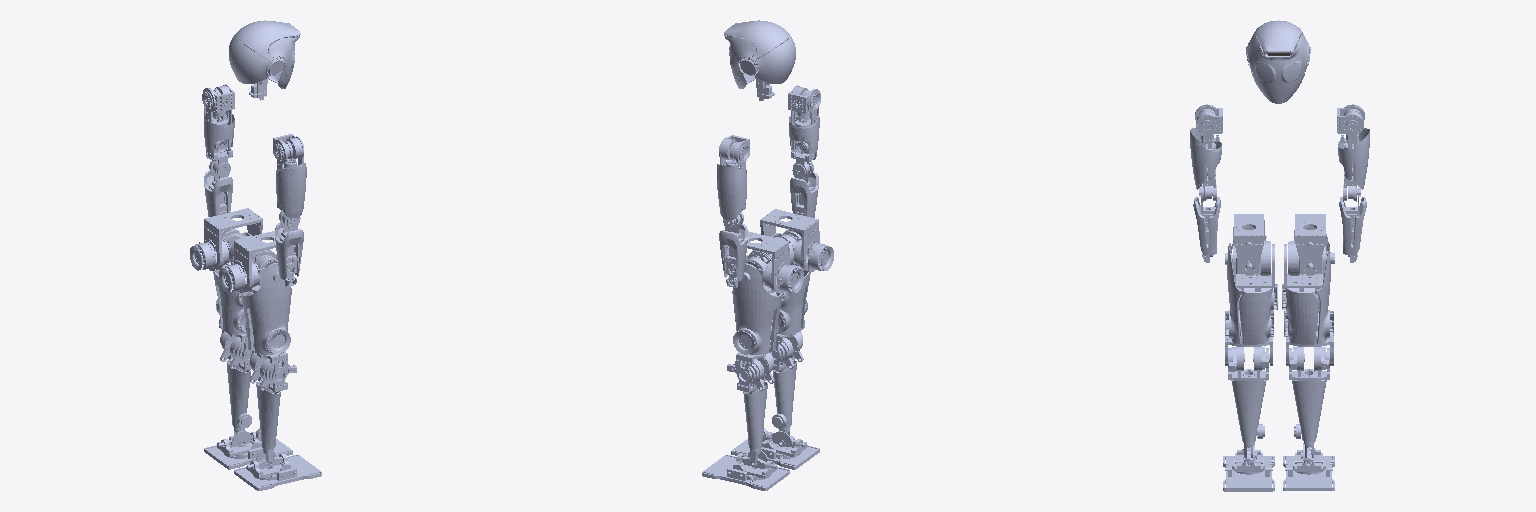
--- What the picture shows (computed from the rendered views, not written in the file) ---
Views: 3 orthographic renders of the robot side by side, from view 1: azimuth 30°, elevation 25°; view 2: azimuth 150°, elevation 25°; view 3: azimuth 270°, elevation 25°.
Robot: surenaV — 33 links, 32 joints (29 revolute, 3 fixed); root link base_link; default pose: all joints at 0.
Visible links, largest first — view 1: head_roll, r_hip_pitch, r_knee, l_hip_yaw, l_knee, r_hip_yaw, r_ankle_roll, r_elbow_pitch, l_hip_pitch, l_ankle_roll, r_forearm_link, l_elbow_pitch (+3 smaller); view 2: head_roll, l_hip_pitch, l_knee, r_hip_yaw, r_knee, l_hip_yaw, l_ankle_roll, r_hip_pitch, l_elbow_pitch, r_ankle_roll, l_forearm_link, r_elbow_pitch (+3 smaller); view 3: r_hip_pitch, l_hip_pitch, head_roll, r_knee, l_knee, r_ankle_roll, l_ankle_roll, l_hip_yaw, r_hip_yaw, r_elbow_pitch, l_elbow_pitch, l_forearm_link (+4 smaller).
Link boxes in pixels (box(x1,y1,x2,y2)): head_roll: box(229, 20, 300, 88); r_hip_pitch: box(241, 263, 291, 382); r_knee: box(250, 353, 296, 465); l_hip_yaw: box(190, 208, 262, 270); l_knee: box(220, 332, 251, 442); r_hip_yaw: box(219, 231, 275, 292); r_ankle_roll: box(234, 453, 321, 490); r_elbow_pitch: box(276, 163, 306, 227); l_hip_pitch: box(213, 229, 249, 360); l_ankle_roll: box(204, 432, 292, 469); r_forearm_link: box(275, 222, 303, 282); l_elbow_pitch: box(204, 106, 234, 175); head_roll: box(724, 20, 795, 88); l_hip_pitch: box(732, 263, 782, 382); l_knee: box(727, 353, 774, 465); r_hip_yaw: box(760, 209, 833, 271); r_knee: box(772, 332, 803, 442); l_hip_yaw: box(747, 231, 803, 293); l_ankle_roll: box(702, 453, 789, 490); r_hip_pitch: box(774, 229, 810, 361); l_elbow_pitch: box(717, 164, 746, 228); r_ankle_roll: box(731, 432, 819, 469); l_forearm_link: box(719, 223, 747, 283); r_elbow_pitch: box(789, 107, 819, 177); r_hip_pitch: box(1225, 243, 1277, 365); l_hip_pitch: box(1282, 243, 1333, 365); head_roll: box(1246, 20, 1310, 103); r_knee: box(1228, 346, 1269, 457); l_knee: box(1289, 346, 1329, 457); r_ankle_roll: box(1223, 449, 1274, 491); l_ankle_roll: box(1283, 447, 1334, 490); l_hip_yaw: box(1294, 214, 1328, 274); r_hip_yaw: box(1232, 214, 1266, 274); r_elbow_pitch: box(1190, 128, 1221, 201); l_elbow_pitch: box(1338, 128, 1369, 201); l_forearm_link: box(1339, 197, 1366, 256).
Size in the robot's own frame: 0.3285 by 0.5891 by 1.63 metres.
Meshes: 32 distinct files referenced, 29 mesh visuals loaded (29 binary STL); not drawn: 3 (reference not matched to a file when rendering).

URDF robot description (surenaV):
<?xml version="1.0" encoding="utf-8"?>
<!-- 
  This URDF was automatically created by SolidWorks to URDF Exporter! Originally created by Stephen Brawner ([email redacted]) 
  Commit Version: 1.6.0-4-g7f85cfe  Build Version: 1.6.7995.38578
  For more information, please see http://wiki.ros.org/sw_urdf_exporter
  
  This file has been manually refactored for clarity and organization.
-->
<robot name="surenaV">

  <!-- ===================================================================================== -->
  <!-- |                                 GAZEBO PLUGINS                                    | -->
  <!-- ===================================================================================== -->
  <!-- Gazebo ROS Control Plugin -->
  <gazebo>
    <plugin name="gazebo_ros_control" filename="libgazebo_ros_control.so">
      <robotNamespace>/surenaV</robotNamespace>
      <robotSimType>gazebo_ros_control/DefaultRobotHWSim</robotSimType>
    </plugin>
  </gazebo>


  <!-- ===================================================================================== -->
  <!-- |                                  LINKS & JOINTS                                   | -->
  <!-- ===================================================================================== -->

  <!-- BASE LINK -->
  <link name="base_link">
    <inertial>
      <origin xyz="0.05495 -0.00046591 1.1042" rpy="0 0 0" />
      <mass value="13.59" />
      <inertia ixx="0.47" ixy="-0.19" ixz="0.11" iyy="0.84" iyz="-0.04" izz="0.66" />
    </inertial>
    <visual>
      <origin xyz="0 0 0" rpy="0 0 0" />
      <geometry>
        <mesh filename="package://surenaV_description/meshes/base_link.STL" />
      </geometry>
      <material name="">
        <color rgba="0.79216 0.81961 0.93333 1" />
      </material>
    </visual>
    <collision>
      <origin xyz="0 0 0" rpy="0 0 0" />
      <geometry>
        <mesh filename="package://surenaV_description/meshes/base_link.STL" />
      </geometry>
    </collision>
  </link>

  <!-- HEAD -->
  <link name="head_yaw">
    <inertial>
      <origin xyz="-0.0036927 0.00094602 0.055932" rpy="0 0 0" />
      <mass value="1.65" />
      <inertia ixx="0.12" ixy="-0.07" ixz="-0.05" iyy="0.26" iyz="0.02" izz="0.21" />
    </inertial>
    <visual>
      <origin xyz="0 0 0" rpy="0 0 0" />
      <geometry>
        <mesh filename="package://surenaV_description/meshes/head_yaw.STL" />
      </geometry>
      <material name="">
        <color rgba="0.79216 0.81961 0.93333 1" />
      </material>
    </visual>
    <collision>
      <origin xyz="0 0 0" rpy="0 0 0" />
      <geometry>
        <mesh filename="package://surenaV_description/meshes/head_yaw.STL" />
      </geometry>
    </collision>
  </link>
  <joint name="head_yaw_joint" type="revolute">
    <origin xyz="0.0725 0 1.3497" rpy="0 0 0" />
    <parent link="base_link" />
    <child link="head_yaw" />
    <axis xyz="0 0 1" />
    <limit lower="-1.57" upper="1.57" effort="1000" velocity="0.5" />
    <dynamics damping="0.7" friction="0.3" />
  </joint>

  <link name="head_pitch">
    <inertial>
      <origin xyz="-0.00066333 -0.0291 0.067023" rpy="0 0 0" />
      <mass value="1.68" />
      <inertia ixx="0.13" ixy="-0.07" ixz="-0.06" iyy="0.27" iyz="0.03" izz="0.22" />
    </inertial>
    <visual>
      <origin xyz="0 0 0" rpy="0 0 0" />
      <geometry>
        <mesh filename="package://surenaV_description/meshes/head_pitch.STL" />
      </geometry>
      <material name="">
        <color rgba="0.79216 0.81961 0.93333 1" />
      </material>
    </visual>
    <collision>
      <origin xyz="0 0 0" rpy="0 0 0" />
      <geometry>
        <mesh filename="package://surenaV_description/meshes/head_pitch.STL" />
      </geometry>
    </collision>
  </link>
  <joint name="head_pitch_joint" type="revolute">
    <origin xyz="0 0.0271 0.07175" rpy="0 0 0" />
    <parent link="head_yaw" />
    <child link="head_pitch" />
    <axis xyz="0 1 0" />
    <limit lower="-1.57" upper="1.57" effort="1000" velocity="0.5" />
    <dynamics damping="0.7" friction="0.3" />
  </joint>

  <link name="head_roll">
    <inertial>
      <origin xyz="-0.044066 -0.0015813 0.011272" rpy="0 0 0" />
      <mass value="1.96" />
      <inertia ixx="0.15" ixy="-0.09" ixz="-0.09" iyy="0.34" iyz="0.04" izz="0.28" />
    </inertial>
    <visual>
      <origin xyz="0 0 0" rpy="0 0 0" />
      <geometry>
        <mesh filename="package://surenaV_description/meshes/head_roll.STL" />
      </geometry>
      <material name="">
        <color rgba="0.79216 0.81961 0.93333 1" />
      </material>
    </visual>
    <collision>
      <origin xyz="0 0 0" rpy="0 0 0" />
      <geometry>
        <mesh filename="package://surenaV_description/meshes/head_roll.STL" />
      </geometry>
    </collision>
  </link>
  <joint name="head_roll_joint" type="revolute">
    <origin xyz="0.0296 -0.0291 0.0825" rpy="0 0 0" />
    <parent link="head_pitch" />
    <child link="head_roll" />
    <axis xyz="1 0 0" />
    <limit lower="-1.57" upper="1.57" effort="1000" velocity="0.5" />
    <dynamics damping="0.7" friction="0.3" />
  </joint>

  <!-- RIGHT LEG -->
  <link name="r_hip_yaw">
    <inertial>
      <origin xyz="-0.069849 0.00016756 -0.078178" rpy="0 0 0" />
      <mass value="3.17" />
      <inertia ixx="0.01" ixy="0.00" ixz="0.00" iyy="0.02" iyz="0.00" izz="0.02" />
    </inertial>
    <visual>
      <origin xyz="0 0 0" rpy="0 0 0" />
      <geometry>
        <mesh filename="package://surenaV_description/meshes/r_hip_yaw.STL" />
      </geometry>
      <material name="">
        <color rgba="0.79216 0.81961 0.93333 1" />
      </material>
    </visual>
    <collision>
      <origin xyz="0 0 0" rpy="0 0 0" />
      <geometry>
        <mesh filename="package://surenaV_description/meshes/r_hip_yaw.STL" />
      </geometry>
    </collision>
  </link>
  <joint name="r_hip_yaw_joint" type="revolute">
    <origin xyz="0.043012 -0.1 0.87631" rpy="0 0 0" />
    <parent link="base_link" />
    <child link="r_hip_yaw" />
    <axis xyz="0 0 1" />
    <limit lower="-1.57" upper="1.57" effort="1000" velocity="0.5" />
    <dynamics damping="0.7" friction="0.3" />
  </joint>

  <link name="r_hip_roll">
    <inertial>
      <origin xyz="0.0035233 0.012172 -0.00020667" rpy="0 0 0" />
      <mass value="2.44" />
      <inertia ixx="0.01" ixy="0.00" ixz="0.00" iyy="0.00" iyz="0.00" izz="0.01" />
    </inertial>
    <visual>
      <origin xyz="0 0 0" rpy="0 0 0" />
      <geometry>
        <mesh filename="package://surenaV_description/meshes/r_hip_roll.STL" />
      </geometry>
      <material name="">
        <color rgba="0.79216 0.81961 0.93333 1" />
      </material>
    </visual>
    <collision>
      <origin xyz="0 0 0" rpy="0 0 0" />
      <geometry>
        <mesh filename="package://surenaV_description/meshes/r_hip_roll.STL" />
      </geometry>
    </collision>
  </link>
  <joint name="r_hip_roll_joint" type="revolute">
    <origin xyz="0 0 -0.1113" rpy="0 0 0" />
    <parent link="r_hip_yaw" />
    <child link="r_hip_roll" />
    <axis xyz="1 0 0" />
    <limit lower="-1.57" upper="1.57" effort="1000" velocity="0.5" />
    <dynamics damping="0.7" friction="0.3" />
  </joint>

  <link name="r_hip_pitch">
    <inertial>
      <origin xyz="0.0025608 0.012621 -0.178" rpy="0 0 0" />
      <mass value="5.27" />
      <inertia ixx="0.05" ixy="0.00" ixz="0.00" iyy="0.04" iyz="0.00" izz="0.02" />
    </inertial>
    <visual>
      <origin xyz="0 0 0" rpy="0 0 0" />
      <geometry>
        <mesh filename="package://surenaV_description/meshes/r_hip_pitch.STL" />
      </geometry>
      <material name="">
        <color rgba="0.79216 0.81961 0.93333 1" />
      </material>
    </visual>
    <collision>
      <origin xyz="0 0 0" rpy="0 0 0" />
      <geometry>
        <mesh filename="package://surenaV_description/meshes/r_hip_pitch.STL" />
      </geometry>
    </collision>
  </link>
  <joint name="r_hip_pitch_joint" type="revolute">
    <origin xyz="0 0 0" rpy="0 0 0" />
    <parent link="r_hip_roll" />
    <child link="r_hip_pitch" />
    <axis xyz="0 1 0" />
    <limit lower="-1.57" upper="1.57" effort="1000" velocity="0.5" />
    <dynamics damping="0.7" friction="0.3" />
  </joint>

  <link name="r_knee">
    <inertial>
      <origin xyz="0.0066463 0.0011462 -0.085758" rpy="0 0 0" />
      <mass value="2.19" />
      <inertia ixx="0.03" ixy="0.00" ixz="0.00" iyy="0.03" iyz="0.00" izz="0.01" />
    </inertial>
    <visual>
      <origin xyz="0 0 0" rpy="0 0 0" />
      <geometry>
        <mesh filename="package://surenaV_description/meshes/r_knee.STL" />
      </geometry>
      <material name="">
        <color rgba="0.79216 0.81961 0.93333 1" />
      </material>
    </visual>
    <collision>
      <origin xyz="0 0 0" rpy="0 0 0" />
      <geometry>
        <mesh filename="package://surenaV_description/meshes/r_knee.STL" />
      </geometry>
    </collision>
  </link>
  <joint name="r_knee_joint" type="revolute">
    <origin xyz="0 0 -0.36006" rpy="0 0 0" />
    <parent link="r_hip_pitch" />
    <child link="r_knee" />
    <axis xyz="0 1 0" />
    <limit lower="-1.57" upper="1.57" effort="1000" velocity="0.5" />
    <dynamics damping="0.7" friction="0.3" />
  </joint>

  <link name="r_ankle_pitch">
    <inertial>
      <origin xyz="-1.3629E-05 0.0034024 0.0015737" rpy="0 0 0" />
      <mass value="0.15" />
      <inertia ixx="0" ixy="1.3944E-09" ixz="0" iyy="0" iyz="0" izz="0" />
    </inertial>
    <visual>
      <origin xyz="0 0 0" rpy="0 0 0" />
      <geometry>
        <mesh filename="package://surenaV_description/meshes/r_ankle_pitch.STL" />
      </geometry>
      <material name="">
        <color rgba="0.79216 0.81961 0.93333 1" />
      </material>
    </visual>
    <collision>
      <origin xyz="0 0 0" rpy="0 0 0" />
      <geometry>
        <mesh filename="package://surenaV_description/meshes/r_ankle_pitch.STL" />
      </geometry>
    </collision>
  </link>
  <joint name="r_ankle_pitch_joint" type="revolute">
    <origin xyz="0 0 -0.35001" rpy="0 0 0" />
    <parent link="r_knee" />
    <child link="r_ankle_pitch" />
    <axis xyz="0 1 0" />
    <limit lower="-1.57" upper="1.57" effort="1000" velocity="0.5" />
    <dynamics damping="0.7" friction="0.3" />
  </joint>

  <link name="r_ankle_roll">
    <inertial>
      <origin xyz="0.032019 -0.0010731 -0.039192" rpy="0 0 0" />
      <mass value="1.93" />
      <inertia ixx="0.00" ixy="0.00" ixz="0.00" iyy="0.01" iyz="0.00" izz="0.01" />
    </inertial>
    <visual>
      <origin xyz="0 0 0" rpy="0 0 0" />
      <geometry>
        <mesh filename="package://surenaV_description/meshes/r_ankle_roll.STL" />
      </geometry>
      <material name="">
        <color rgba="0.79216 0.81961 0.93333 1" />
      </material>
    </visual>
    <collision>
      <origin xyz="0 0 0" rpy="0 0 0" />
      <geometry>
        <mesh filename="package://surenaV_description/meshes/r_ankle_roll.STL" />
      </geometry>
      <surface>
        <friction>
          <ode>
            <mu>100</mu>
            <mu2>100</mu2>
          </ode>
        </friction>
      </surface>
    </collision>
  </link>
  <joint name="r_ankle_roll_joint" type="revolute">
    <origin xyz="0 0 0" rpy="0 0 0" />
    <parent link="r_ankle_pitch" />
    <child link="r_ankle_roll" />
    <axis xyz="1 0 0" />
    <limit lower="-1.57" upper="1.57" effort="1000" velocity="0.5" />
    <dynamics damping="0.7" friction="0.3" />
  </joint>

  <!-- LEFT LEG -->
  <link name="l_hip_yaw">
    <inertial>
      <origin xyz="-0.069213 0.00011237 -0.068241" rpy="0 0 0" />
      <mass value="3.17" />
      <inertia ixx="0.01" ixy="0.00" ixz="0.00" iyy="0.02" iyz="0.00" izz="0.02" />
    </inertial>
    <visual>
      <origin xyz="0 0 0" rpy="0 0 0" />
      <geometry>
        <mesh filename="package://surenaV_description/meshes/l_hip_yaw.STL" />
      </geometry>
      <material name="">
        <color rgba="0.79216 0.81961 0.93333 1" />
      </material>
    </visual>
    <collision>
      <origin xyz="0 0 0" rpy="0 0 0" />
      <geometry>
        <mesh filename="package://surenaV_description/meshes/l_hip_yaw.STL" />
      </geometry>
    </collision>
  </link>
  <joint name="l_hip_yaw_joint" type="revolute">
    <origin xyz="0.043012 0.1 0.86631" rpy="0 0 0" />
    <parent link="base_link" />
    <child link="l_hip_yaw" />
    <axis xyz="0 0 1" />
    <limit lower="-1.57" upper="1.57" effort="1000" velocity="0.5" />
    <dynamics damping="0.7" friction="0.3" />
  </joint>

  <link name="l_hip_roll">
    <inertial>
      <origin xyz="0.0033793 -0.012172 0.00021004" rpy="0 0 0" />
      <mass value="2.44" />
      <inertia ixx="0.01" ixy="0.00" ixz="0.00" iyy="0.00" iyz="0.00" izz="0.01" />
    </inertial>
    <visual>
      <origin xyz="0 0 0" rpy="0 0 0" />
      <geometry>
        <mesh filename="package://surenaV_description/meshes/l_hip_roll.STL" />
      </geometry>
      <material name="">
        <color rgba="0.79216 0.81961 0.93333 1" />
      </material>
    </visual>
    <collision>
      <origin xyz="0 0 0" rpy="0 0 0" />
      <geometry>
        <mesh filename="package://surenaV_description/meshes/l_hip_roll.STL" />
      </geometry>
    </collision>
  </link>
  <joint name="l_hip_roll_joint" type="revolute">
    <origin xyz="0 0 -0.1013" rpy="0 0 0" />
    <parent link="l_hip_yaw" />
    <child link="l_hip_roll" />
    <axis xyz="1 0 0" />
    <limit lower="-1.57" upper="1.57" effort="1000" velocity="0.5" />
    <dynamics damping="0.7" friction="0.3" />
  </joint>

  <link name="l_hip_pitch">
    <inertial>
      <origin xyz="0.0024199 -0.02 -0.17825" rpy="0 0 0" />
      <mass value="5.61" />
      <inertia ixx="0.05" ixy="0.00" ixz="0.00" iyy="0.04" iyz="0.00" izz="0.02" />
    </inertial>
    <visual>
      <origin xyz="0 0 0" rpy="0 0 0" />
      <geometry>
        <mesh filename="package://surenaV_description/meshes/l_hip_pitch.STL" />
      </geometry>
      <material name="">
        <color rgba="0.79216 0.81961 0.93333 1" />
      </material>
    </visual>
    <collision>
      <origin xyz="0 0 0" rpy="0 0 0" />
      <geometry>
        <mesh filename="package://surenaV_description/meshes/l_hip_pitch.STL" />
      </geometry>
    </collision>
  </link>
  <joint name="l_hip_pitch_joint" type="revolute">
    <origin xyz="0 0 0" rpy="0 0 0" />
    <parent link="l_hip_roll" />
    <child link="l_hip_pitch" />
    <axis xyz="0 1 0" />
    <limit lower="-1.57" upper="1.57" effort="1000" velocity="0.5" />
    <dynamics damping="0.7" friction="0.3" />
  </joint>

  <link name="l_knee">
    <inertial>
      <origin xyz="0.01 -0.01 -0.09" rpy="0 0 0" />
      <mass value="2.19" />
      <inertia ixx="0.03" ixy="0.00" ixz="0.00" iyy="0.03" iyz="0.00" izz="0.01" />
    </inertial>
    <visual>
      <origin xyz="0 0 0" rpy="0 0 0" />
      <geometry>
        <mesh filename="package://surenaV_description/meshes/l_knee.STL" />
      </geometry>
      <material name="">
        <color rgba="0.79216 0.81961 0.93333 1" />
      </material>
    </visual>
    <collision>
      <origin xyz="0 0 0" rpy="0 0 0" />
      <geometry>
        <mesh filename="package://surenaV_description/meshes/l_knee.STL" />
      </geometry>
    </collision>
  </link>
  <joint name="l_knee_joint" type="revolute">
    <origin xyz="0 0 -0.35988" rpy="0 0 0" />
    <parent link="l_hip_pitch" />
    <child link="l_knee" />
    <axis xyz="0 1 0" />
    <limit lower="-1.57" upper="1.57" effort="1000" velocity="0.5" />
    <dynamics damping="0.7" friction="0.3" />
  </joint>

  <link name="l_ankle_pitch">
    <inertial>
      <origin xyz="-1.3629E-05 -0.01 0.0015737" rpy="0 0 0" />
      <mass value="0.19" />
      <inertia ixx="0" ixy="0" ixz="0" iyy="0" iyz="0" izz="0" />
    </inertial>
    <visual>
      <origin xyz="0 0 0" rpy="0 0 0" />
      <geometry>
        <mesh filename="package://surenaV_description/meshes/l_ankle_pitch.STL" />
      </geometry>
      <material name="">
        <color rgba="0.79216 0.81961 0.93333 1" />
      </material>
    </visual>
    <collision>
      <origin xyz="0 0 0" rpy="0 0 0" />
      <geometry>
        <mesh filename="package://surenaV_description/meshes/l_ankle_pitch.STL" />
      </geometry>
    </collision>
  </link>
  <joint name="l_ankle_pitch_joint" type="revolute">
    <origin xyz="0 0 -0.34999" rpy="0 0 0" />
    <parent link="l_knee" />
    <child link="l_ankle_pitch" />
    <axis xyz="0 1 0" />
    <limit lower="-1.57" upper="1.57" effort="1000" velocity="0.5" />
    <dynamics damping="0.7" friction="0.3" />
  </joint>

  <link name="l_ankle_roll">
    <inertial>
      <origin xyz="0.032019 -0.0036731 -0.039192" rpy="0 0 0" />
      <mass value="1.85" />
      <inertia ixx="0" ixy="0" ixz="0" iyy="0.1" iyz="0" izz="0.01" />
    </inertial>
    <visual>
      <origin xyz="0 0 0" rpy="0 0 0" />
      <geometry>
        <mesh filename="package://surenaV_description/meshes/l_ankle_roll.STL" />
      </geometry>
      <material name="">
        <color rgba="0.79216 0.81961 0.93333 1" />
      </material>
    </visual>
    <collision>
      <origin xyz="0 0 0" rpy="0 0 0" />
      <geometry>
        <mesh filename="package://surenaV_description/meshes/l_ankle_roll.STL" />
      </geometry>
      <surface>
        <friction>
          <ode>
            <mu>100</mu>
            <mu2>100</mu2>
          </ode>
        </friction>
      </surface>
    </collision>
  </link>
  <joint name="l_ankle_roll_joint" type="revolute">
    <origin xyz="0 0 0" rpy="0 0 0" />
    <parent link="l_ankle_pitch" />
    <child link="l_ankle_roll" />
    <axis xyz="1 0 0" />
    <limit lower="-1.57" upper="1.57" effort="1000" velocity="0.5" />
    <dynamics damping="0.7" friction="0.3" />
  </joint>

  <!-- RIGHT ARM -->
  <link name="r_arm_pitch">
    <inertial>
      <origin xyz="-0.01 -0.04 0" rpy="0 0 0" />
      <mass value="1.99" />
      <inertia ixx="0.31" ixy="-0.04" ixz="0.03" iyy="0.08" iyz="0.02" izz="0.3" />
    </inertial>
    <visual>
      <origin xyz="0 0 0" rpy="0 0 0" />
      <geometry>
        <mesh filename="package://surenaV_description/meshes/r_arm_pitch.STL" />
      </geometry>
      <material name="">
        <color rgba="0.79216 0.81961 0.93333 1" />
      </material>
    </visual>
    <collision>
      <origin xyz="0 0 0" rpy="0 0 0" />
      <geometry>
        <mesh filename="package://surenaV_description/meshes/r_arm_pitch.STL" />
      </geometry>
    </collision>
  </link>
  <joint name="r_arm_pitch_joint" type="revolute">
    <origin xyz="0.050262 -0.18726 1.2635" rpy="0 0 0" />
    <parent link="base_link" />
    <child link="r_arm_pitch" />
    <axis xyz="0 1 0" />
    <limit lower="-1.57" upper="1.57" effort="1000" velocity="0.5" />
    <dynamics damping="0.7" friction="0.3" />
  </joint>

  <link name="r_arm_roll">
    <inertial>
      <origin xyz="-0.033422 -0.00012632 -0.083394" rpy="0 0 0" />
      <mass value="1.93" />
      <inertia ixx="0.29" ixy="-0.04" ixz="0.03" iyy="0.07" iyz="-0.02" izz="0.28" />
    </inertial>
    <visual>
      <origin xyz="0 0 0" rpy="0 0 0" />
      <geometry>
        <mesh filename="package://surenaV_description/meshes/r_arm_roll.STL" />
      </geometry>
      <material name="">
        <color rgba="0.79216 0.81961 0.93333 1" />
      </material>
    </visual>
    <collision>
      <origin xyz="0 0 0" rpy="0 0 0" />
      <geometry>
        <mesh filename="package://surenaV_description/meshes/r_arm_roll.STL" />
      </geometry>
    </collision>
  </link>
  <joint name="r_arm_roll_joint" type="revolute">
    <origin xyz="0.035 -0.05 0" rpy="0 0 0" />
    <parent link="r_arm_pitch" />
    <child link="r_arm_roll" />
    <axis xyz="1 0 0" />
    <limit lower="-1.57" upper="1.57" effort="1000" velocity="0.5" />
    <dynamics damping="0.7" friction="0.3" />
  </joint>

  <link name="r_elbow_pitch">
    <inertial>
      <origin xyz="0 0 -0.06" rpy="0 0 0" />
      <mass value="1.91" />
      <inertia ixx="0.28" ixy="-0.04" ixz="0.03" iyy="0.06" iyz="-0.03" izz="0.28" />
    </inertial>
    <visual>
      <origin xyz="0 0 0" rpy="0 0 0" />
      <geometry>
        <mesh filename="package://surenaV_description/meshes/r_elbow_pitch.STL" />
      </geometry>
      <material name="">
        <color rgba="0.79216 0.81961 0.93333 1" />
      </material>
    </visual>
    <collision>
      <origin xyz="0 0 0" rpy="0 0 0" />
      <geometry>
        <mesh filename="package://surenaV_description/meshes/r_elbow_pitch.STL" />
      </geometry>
    </collision>
  </link>
  <joint name="r_elbow_pitch_joint" type="revolute">
    <origin xyz="-0.033004 0 -0.13334" rpy="0 0 0" />
    <parent link="r_arm_roll" />
    <child link="r_elbow_pitch" />
    <axis xyz="0 0 1" />
    <limit lower="-1.57" upper="1.57" effort="1000" velocity="0.5" />
    <dynamics damping="0.7" friction="0.3" />
  </joint>

  <link name="r_forearm_roll">
    <inertial>
      <origin xyz="0 -0.030836 -0.02" rpy="0 0 0" />
      <mass value="2.02" />
      <inertia ixx="0.31" ixy="-0.03" ixz="-0.03" iyy="0.07" iyz="0.03" izz="0.31" />
    </inertial>
    <visual>
      <origin xyz="0 0 0" rpy="0 0 0" />
      <geometry>
        <mesh filename="package://surenaV_description/meshes/r_forearm_roll.STL" />
      </geometry>
      <material name="">
        <color rgba="0.79216 0.81961 0.93333 1" />
      </material>
    </visual>
    <collision>
      <origin xyz="0 0 0" rpy="0 0 0" />
      <geometry>
        <mesh filename="package://surenaV_description/meshes/r_forearm_roll.STL" />
      </geometry>
    </collision>
  </link>
  <joint name="r_forearm_roll_joint" type="revolute">
    <origin xyz="0 0.0335 -0.12309" rpy="0 0 0" />
    <parent link="r_elbow_pitch" />
    <child link="r_forearm_roll" />
    <axis xyz="0 1 0" />
    <limit lower="-1.57" upper="1.57" effort="1000" velocity="0.5" />
    <dynamics damping="0.7" friction="0.3" />
  </joint>

  <link name="r_forearm_link">
    <inertial>
      <origin xyz="0 -0.01 -0.07" rpy="0 0 0" />
      <mass value="0.18" />
      <inertia ixx="0" ixy="0" ixz="0" iyy="0" iyz="0" izz="0" />
    </inertial>
    <visual>
      <origin xyz="0 0 0" rpy="0 0 0" />
      <geometry>
        <mesh filename="package://surenaV_description/meshes/r_forearm_link.STL" />
      </geometry>
      <material name="">
        <color rgba="0.79216 0.81961 0.93333 1" />
      </material>
    </visual>
    <collision>
      <origin xyz="0 0 0" rpy="0 0 0" />
      <geometry>
        <mesh filename="package://surenaV_description/meshes/r_forearm_link.STL" />
      </geometry>
    </collision>
  </link>
  <joint name="r_forearm_link_joint" type="revolute">
    <origin xyz="0 -0.03075 -0.07083" rpy="0 0 -1.57" />
    <parent link="r_forearm_roll" />
    <child link="r_forearm_link" />
    <axis xyz="0 0 1" />
    <limit lower="-1.57" upper="1.57" effort="1000" velocity="0.5" />
    <dynamics damping="0.7" friction="0.3" />
  </joint>

  <link name="r_hand_pitch">
    <inertial>
      <origin xyz="-0.01 3.8223E-08 -5.6648E-09" rpy="0 0 0" />
      <mass value="1.75" />
      <inertia ixx="0.09" ixy="0.03" ixz="-0.08" iyy="0.22" iyz="-0.03" izz="0.19" />
    </inertial>
    <visual>
      <origin xyz="0 0 0" rpy="0 0 0" />
      <geometry>
        <mesh filename="package://surenaV_description/meshes/r_hand_pitch.STL" />
      </geometry>
      <material name="">
        <color rgba="0.79216 0.81961 0.93333 1" />
      </material>
    </visual>
    <collision>
      <origin xyz="0 0 0" rpy="0 0 0" />
      <geometry>
        <mesh filename="package://surenaV_description/meshes/r_hand_pitch.STL" />
      </geometry>
    </collision>
  </link>
  <joint name="r_hand_pitch_joint" type="revolute">
    <origin xyz="0.01 0 -0.15132" rpy="0 0 0" />
    <parent link="r_forearm_link" />
    <child link="r_hand_pitch" />
    <axis xyz="0 -1 0" />
    <limit lower="-1.57" upper="1.57" effort="1000" velocity="0.5" />
    <dynamics damping="0.7" friction="0.3" />
  </joint>

  <link name="r_hand_roll">
    <inertial>
      <origin xyz="0.0041621 -0.017 -0.012245" rpy="0 0 0" />
      <mass value="1.75" />
      <inertia ixx="0.05" ixy="0.04" ixz="0.02" iyy="0.22" iyz="-0.01" izz="0.23" />
    </inertial>
    <visual>
      <origin xyz="0 0 0" rpy="0 0 0" />
      <geometry>
        <mesh filename="package://surenaV_description/meshes/r_hand_roll.STL" />
      </geometry>
      <material name="">
        <color rgba="0.79216 0.81961 0.93333 1" />
      </material>
    </visual>
    <collision>
      <origin xyz="0 0 0" rpy="0 0 0" />
      <geometry>
        <mesh filename="package://surenaV_description/meshes/r_hand_roll.STL" />
      </geometry>
    </collision>
  </link>
  <joint name="r_hand_roll_joint" type="revolute">
    <origin xyz="-0.01 0.017 0" rpy="0 0 0" />
    <parent link="r_hand_pitch" />
    <child link="r_hand_roll" />
    <axis xyz="1 0 0" />
    <limit lower="-1.57" upper="1.57" effort="1000" velocity="0.5" />
    <dynamics damping="0.7" friction="0.3" />
  </joint>

  <link name="r_hand_link">
    <inertial>
      <origin xyz="-0.01 0.01 -0.07" rpy="0 0 0" />
      <mass value="0.24" />
      <inertia ixx="0" ixy="0" ixz="0" iyy="0" iyz="0" izz="0" />
    </inertial>
    <visual>
      <origin xyz="0 0 0" rpy="0 0 0" />
      <geometry>
        <mesh filename="package://surenaV_description/meshes/r_hand_link.STL" />
      </geometry>
      <material name="">
        <color rgba="0.79216 0.81961 0.93333 1" />
      </material>
    </visual>
    <collision>
      <origin xyz="0 0 0" rpy="0 0 0" />
      <geometry>
        <mesh filename="package://surenaV_description/meshes/r_hand_link.STL" />
      </geometry>
    </collision>
  </link>
  <joint name="r_hand_link_joint" type="fixed">
    <origin xyz="0.049842 0.21551 0.7191" rpy="0 0 0" />
    <parent link="r_hand_roll" />
    <child link="r_hand_link" />
    <axis xyz="0 0 0" />
  </joint>

  <!-- LEFT ARM -->
  <link name="l_arm_pitch">
    <inertial>
      <origin xyz="-0.01 0.042591 -0.00039657" rpy="0 0 0" />
      <mass value="1.99" />
      <inertia ixx="0.28" ixy="-0.08" ixz="0.04" iyy="0.1" iyz="-0.02" izz="0.3" />
    </inertial>
    <visual>
      <origin xyz="0 0 0" rpy="0 0 0" />
      <geometry>
        <mesh filename="package://surenaV_description/meshes/l_arm_pitch.STL" />
      </geometry>
      <material name="">
        <color rgba="0.79216 0.81961 0.93333 1" />
      </material>
    </visual>
    <collision>
      <origin xyz="0 0 0" rpy="0 0 0" />
      <geometry>
        <mesh filename="package://surenaV_description/meshes/l_arm_pitch.STL" />
      </geometry>
    </collision>
  </link>
  <joint name="l_arm_pitch_joint" type="revolute">
    <origin xyz="0.050262 0.18852 1.2635" rpy="0 0 0" />
    <parent link="base_link" />
    <child link="l_arm_pitch" />
    <axis xyz="0 1 0" />
    <limit lower="-1.57" upper="1.57" effort="1000" velocity="0.5" />
    <dynamics damping="0.7" friction="0.3" />
  </joint>

  <link name="l_arm_roll">
    <inertial>
      <origin xyz="-0.033422 0.00012632 -0.083394" rpy="0 0 0" />
      <mass value="1.93" />
      <inertia ixx="0.26" ixy="-0.08" ixz="0.03" iyy="0.1" iyz="-0.01" izz="0.28" />
    </inertial>
    <visual>
      <origin xyz="0 0 0" rpy="0 0 0" />
      <geometry>
        <mesh filename="package://surenaV_description/meshes/l_arm_roll.STL" />
      </geometry>
      <material name="">
        <color rgba="0.79216 0.81961 0.93333 1" />
      </material>
    </visual>
    <collision>
      <origin xyz="0 0 0" rpy="0 0 0" />
      <geometry>
        <mesh filename="package://surenaV_description/meshes/l_arm_roll.STL" />
      </geometry>
    </collision>
  </link>
  <joint name="l_arm_roll_joint" type="revolute">
    <origin xyz="0.035 0.05 0" rpy="0 0 0" />
    <parent link="l_arm_pitch" />
    <child link="l_arm_roll" />
    <axis xyz="1 0 0" />
    <limit lower="-1.57" upper="1.57" effort="1000" velocity="0.5" />
    <dynamics damping="0.7" friction="0.3" />
  </joint>

  <link name="l_elbow_pitch">
    <inertial>
      <origin xyz="2.12E-06 -0.0028416 -0.06" rpy="0 0 0" />
      <mass value="1.91" />
      <inertia ixx="0.25" ixy="-0.08" ixz="0.04" iyy="0.09" iyz="-0.03" izz="0.28" />
    </inertial>
    <visual>
      <origin xyz="0 0 0" rpy="0 0 0" />
      <geometry>
        <mesh filename="package://surenaV_description/meshes/l_elbow_pitch.STL" />
      </geometry>
      <material name="">
        <color rgba="0.79216 0.81961 0.93333 1" />
      </material>
    </visual>
    <collision>
      <origin xyz="0 0 0" rpy="0 0 0" />
      <geometry>
        <mesh filename="package://surenaV_description/meshes/l_elbow_pitch.STL" />
      </geometry>
    </collision>
  </link>
  <joint name="l_elbow_pitch_joint" type="revolute">
    <origin xyz="-0.033004 0 -0.13334" rpy="0 0 0" />
    <parent link="l_arm_roll" />
    <child link="l_elbow_pitch" />
    <axis xyz="0 0 1" />
    <limit lower="-1.57" upper="1.57" effort="1000" velocity="0.5" />
    <dynamics damping="0.7" friction="0.3" />
  </joint>

  <link name="l_forearm_roll">
    <inertial>
      <origin xyz="0 0.030836 -0.02" rpy="0 0 0" />
      <mass value="2.02" />
      <inertia ixx="0.31" ixy="-0.03" ixz="-0.03" iyy="0.09" iyz="0.08" izz="0.28" />
    </inertial>
    <visual>
      <origin xyz="0 0 0" rpy="0 0 0" />
      <geometry>
        <mesh filename="package://surenaV_description/meshes/l_forearm_roll.STL" />
      </geometry>
      <material name="">
        <color rgba="0.79216 0.81961 0.93333 1" />
      </material>
    </visual>
    <collision>
      <origin xyz="0 0 0" rpy="0 0 0" />
      <geometry>
        <mesh filename="package://surenaV_description/meshes/l_forearm_roll.STL" />
      </geometry>
    </collision>
  </link>
  <joint name="l_forearm_roll_joint" type="revolute">
    <origin xyz="0 -0.0325 -0.12309" rpy="0 0 0" />
    <parent link="l_elbow_pitch" />
    <child link="l_forearm_roll" />
    <axis xyz="0 1 0" />
    <limit lower="-1.57" upper="1.57" effort="1000" velocity="0.5" />
    <dynamics damping="0.7" friction="0.3" />
  </joint>

  <link name="l_forearm_link">
    <inertial>
      <origin xyz="-0.00059087 0.01 -0.072286" rpy="0 0 1.57" />
      <mass value="0.18" />
      <inertia ixx="0" ixy="0" ixz="0" iyy="0" iyz="0" izz="0" />
    </inertial>
    <visual>
      <origin xyz="0 0 0" rpy="0 0 0" />
      <geometry>
        <mesh filename="package://surenaV_description/meshes/l_forearm_link.STL" />
      </geometry>
      <material name="">
        <color rgba="0.79216 0.81961 0.93333 1" />
      </material>
    </visual>
    <collision>
      <origin xyz="0 0 0" rpy="0 0 0" />
      <geometry>
        <mesh filename="package://surenaV_description/meshes/l_forearm_link.STL" />
      </geometry>
    </collision>
  </link>
  <joint name="l_forearm_link_joint" type="revolute">
    <origin xyz="0 0.03075 -0.07083" rpy="0 0 1.57" />
    <parent link="l_forearm_roll" />
    <child link="l_forearm_link" />
    <axis xyz="0 0 -1" />
    <limit lower="-1.57" upper="1.57" effort="1000" velocity="0.5" />
    <dynamics damping="0.7" friction="0.3" />
  </joint>

  <link name="l_hand_pitch">
    <inertial>
      <origin xyz="-0.01 3.8223E-08 5.6648E-09" rpy="0 0 0" />
      <mass value="1.75" />
      <inertia ixx="0.09" ixy="-0.03" ixz="-0.08" iyy="0.22" iyz="0.03" izz="0.19" />
    </inertial>
    <visual>
      <origin xyz="0 0 0" rpy="0 0 0" />
      <geometry>
        <mesh filename="package://surenaV_description/meshes/l_hand_pitch.STL" />
      </geometry>
      <material name="">
        <color rgba="0.79216 0.81961 0.93333 1" />
      </material>
    </visual>
    <collision>
      <origin xyz="0 0 0" rpy="0 0 0" />
      <geometry>
        <mesh filename="package://surenaV_description/meshes/l_hand_pitch.STL" />
      </geometry>
    </collision>
  </link>
  <joint name="l_hand_pitch_joint" type="revolute">
    <origin xyz="0.01 0 -0.15132" rpy="0 0 0" />
    <parent link="l_forearm_link" />
    <child link="l_hand_pitch" />
    <axis xyz="0 -1 0" />
    <limit lower="-1.57" upper="1.57" effort="1000" velocity="0.5" />
    <dynamics damping="0.7" friction="0.3" />
  </joint>

  <link name="l_hand_roll">
    <inertial>
      <origin xyz="0.0041621 0.02 -0.012245" rpy="0 0 0" />
      <mass value="1.75" />
      <inertia ixx="0.16" ixy="0.01" ixz="0.09" iyy="0.22" iyz="0.04" izz="0.13" />
    </inertial>
    <visual>
      <origin xyz="0 0 0" rpy="0 0 0" />
      <geometry>
        <mesh filename="package://surenaV_description/meshes/l_hand_roll.STL" />
      </geometry>
      <material name="">
        <color rgba="0.79216 0.81961 0.93333 1" />
      </material>
    </visual>
    <collision>
      <origin xyz="0 0 0" rpy="0 0 0" />
      <geometry>
        <mesh filename="package://surenaV_description/meshes/l_hand_roll.STL" />
      </geometry>
    </collision>
  </link>
  <joint name="l_hand_roll_joint" type="revolute">
    <origin xyz="-0.01 -0.017 0" rpy="0 0 0" />
    <parent link="l_hand_pitch" />
    <child link="l_hand_roll" />
    <axis xyz="1 0 0" />
    <limit lower="-1.57" upper="1.57" effort="1000" velocity="0.5" />
    <dynamics damping="0.7" friction="0.3" />
  </joint>

  <link name="l_hand_link">
    <inertial>
      <origin xyz="0.0031894 0.011871 -0.076128" rpy="0 0 0" />
      <mass value="0.24" />
      <inertia ixx="0" ixy="0" ixz="0" iyy="0" iyz="0" izz="0" />
    </inertial>
    <visual>
      <origin xyz="0 0 0" rpy="0 0 0" />
      <geometry>
        <mesh filename="package://surenaV_description/meshes/l_hand_link.STL" />
      </geometry>
      <material name="">
        <color rgba="0.79216 0.81961 0.93333 1" />
      </material>
    </visual>
    <collision>
      <origin xyz="0 0 0" rpy="0 0 0" />
      <geometry>
        <mesh filename="package://surenaV_description/meshes/l_hand_link.STL" />
      </geometry>
    </collision>
  </link>
  <joint name="l_hand_link_joint" type="fixed">
    <origin xyz="0 0 0" rpy="0 0 0" />
    <parent link="l_hand_roll" />
    <child link="l_hand_link" />
    <axis xyz="0 0 0" />
  </joint>

  <!-- CAMERA -->
  <link name="camera_link">
    <inertial>
      <origin xyz="0 0 0" rpy="-1.57 -1.57 -1.57"/>
      <mass value="0.1"/>
      <inertia ixx="0.0001" ixy="0" ixz="0" iyy="0.0001" iyz="0" izz="0.0001"/>
    </inertial>
    <visual>
      <origin xyz="0 0 0" rpy="0 0 0"/>
      <geometry>
        <box size="0.01 0.07 0.015"/>
      </geometry>
      <material name="gray">
        <color rgba="0.5 0.5 0.5 1"/>
      </material>
    </visual>
    <collision>
      <origin xyz="0 0 0" rpy="0 0 0"/>
      <geometry>
        <box size="0.01 0.07 0.015"/>
      </geometry>
    </collision>
  </link>
  <joint name="camera_joint" type="fixed">
    <parent link="head_roll"/>
    <child link="camera_link"/>
    <origin xyz="0.085 0 0.068" rpy="0 0.349 0"/>
  </joint>
  

  <!-- ===================================================================================== -->
  <!-- |                             CAMERA AND SENSORS                                    | -->
  <!-- ===================================================================================== -->
  <gazebo reference="camera_link">
    <sensor name="camera1" type="depth">
      <always_on>true</always_on>
      <update_rate>10.0</update_rate>
      <camera>
        <horizontal_fov>2</horizontal_fov>
        <image>
          <format>R8G8B8</format>
          <width>1080</width>
          <height>720</height>
        </image>
        <clip>
          <near>0.5</near>
          <far>30.0</far>
        </clip>
      </camera>
      <plugin filename="libgazebo_ros_openni_kinect.so" name="camera_depth_frame_kinect_controller">
        <baseline>0.2</baseline>
        <alwaysOn>true</alwaysOn>
        <updateRate>0</updateRate>
        <cameraName>camera</cameraName>
        <imageTopicName>image_raw</imageTopicName>
        <cameraInfoTopicName>camera_info</cameraInfoTopicName>
        <depthImageTopicName>depth/image_raw</depthImageTopicName>
        <depthImageCameraInfoTopicName>depth/camera_info</depthImageCameraInfoTopicName>
        <pointCloudTopicName>depth/points</pointCloudTopicName>
        <frameName>camera_depth_optical_frame</frameName>
        <pointCloudCutoff>0.5</pointCloudCutoff>
        <pointCloudCutoffMax>3.0</pointCloudCutoffMax>
        <distortionK1>0.00000001</distortionK1>
        <distortionK2>0.00000001</distortionK2>
        <distortionK3>0.00000001</distortionK3>
        <distortionT1>0.00000001</distortionT1>
        <distortionT2>0.00000001</distortionT2>
        <CxPrime>0</CxPrime>
        <Cx>0</Cx>
        <Cy>0</Cy>
        <focalLength>0</focalLength>
        <hackBaseline>0</hackBaseline>
      </plugin>
    </sensor>
  </gazebo>


  <!-- ===================================================================================== -->
  <!-- |                       PHYSICAL PROPERTIES (GAZEBO)                                | -->
  <!-- ===================================================================================== -->

  <!-- HEAD -->
  <gazebo reference="head_yaw">
    <mu1>0.9</mu1>
    <mu2>0.9</mu2>
  </gazebo>
  <gazebo reference="head_pitch">
    <mu1>0.9</mu1>
    <mu2>0.9</mu2>
  </gazebo>
  <gazebo reference="head_roll">
    <mu1>0.9</mu1>
    <mu2>0.9</mu2>
  </gazebo>

  <!-- RIGHT LEG -->
  <gazebo reference="r_hip_yaw">
    <mu1>0.9</mu1>
    <mu2>0.9</mu2>
  </gazebo>
  <gazebo reference="r_hip_roll">
    <mu1>0.9</mu1>
    <mu2>0.9</mu2>
  </gazebo>
  <gazebo reference="r_hip_pitch">
    <mu1>0.9</mu1>
    <mu2>0.9</mu2>
  </gazebo>
  <gazebo reference="r_knee">
    <mu1>0.9</mu1>
    <mu2>0.9</mu2>
  </gazebo>
  <gazebo reference="r_ankle_pitch">
    <mu1>0.9</mu1>
    <mu2>0.9</mu2>
  </gazebo>
  <gazebo reference="r_ankle_roll">
    <mu1>1000</mu1>
    <mu2>1000</mu2>
    <kp>1000000.0</kp>
    <kd>100000.0</kd>
    <slip1>0</slip1>
    <slip2>0</slip2>
  </gazebo>

  <!-- LEFT LEG -->
  <gazebo reference="l_hip_yaw">
    <mu1>0.9</mu1>
    <mu2>0.9</mu2>
  </gazebo>
  <gazebo reference="l_hip_roll">
    <mu1>0.9</mu1>
    <mu2>0.9</mu2>
  </gazebo>
  <gazebo reference="l_hip_pitch">
    <mu1>0.9</mu1>
    <mu2>0.9</mu2>
  </gazebo>
  <gazebo reference="l_knee">
    <mu1>0.9</mu1>
    <mu2>0.9</mu2>
  </gazebo>
  <gazebo reference="l_ankle_pitch">
    <mu1>0.9</mu1>
    <mu2>0.9</mu2>
  </gazebo>
  <gazebo reference="l_ankle_roll">
    <mu1>1000</mu1>
    <mu2>1000</mu2>
    <kp>1000000.0</kp>
    <kd>100000.0</kd>
    <slip1>0</slip1>
    <slip2>0</slip2>
  </gazebo>

  <!-- RIGHT ARM -->
  <gazebo reference="r_arm_pitch">
    <mu1>0.9</mu1>
    <mu2>0.9</mu2>
  </gazebo>
  <gazebo reference="r_arm_roll">
    <mu1>0.9</mu1>
    <mu2>0.9</mu2>
  </gazebo>
  <gazebo reference="r_elbow_pitch">
    <mu1>0.9</mu1>
    <mu2>0.9</mu2>
  </gazebo>
  <gazebo reference="r_forearm_roll">
    <mu1>0.9</mu1>
    <mu2>0.9</mu2>
  </gazebo>
  <gazebo reference="r_forearm_link">
    <mu1>0.9</mu1>
    <mu2>0.9</mu2>
  </gazebo>
  <gazebo reference="r_hand_pitch">
    <mu1>0.9</mu1>
    <mu2>0.9</mu2>
  </gazebo>
  <gazebo reference="r_hand_roll">
    <mu1>0.9</mu1>
    <mu2>0.9</mu2>
  </gazebo>
  <gazebo reference="r_hand_link">
    <mu1>0.9</mu1>
    <mu2>0.9</mu2>
  </gazebo>

  <!-- LEFT ARM -->
  <gazebo reference="l_arm_pitch">
    <mu1>0.9</mu1>
    <mu2>0.9</mu2>
  </gazebo>
  <gazebo reference="l_arm_roll">
    <mu1>0.9</mu1>
    <mu2>0.9</mu2>
  </gazebo>
  <gazebo reference="l_elbow_pitch">
    <mu1>0.9</mu1>
    <mu2>0.9</mu2>
  </gazebo>
  <gazebo reference="l_forearm_roll">
    <mu1>0.9</mu1>
    <mu2>0.9</mu2>
  </gazebo>
  <gazebo reference="l_forearm_link">
    <mu1>0.9</mu1>
    <mu2>0.9</mu2>
  </gazebo>
  <gazebo reference="l_hand_pitch">
    <mu1>0.9</mu1>
    <mu2>0.9</mu2>
  </gazebo>
  <gazebo reference="l_hand_roll">
    <mu1>0.9</mu1>
    <mu2>0.9</mu2>
  </gazebo>
  <gazebo reference="l_hand_link">
    <mu1>0.9</mu1>
    <mu2>0.9</mu2>
  </gazebo>


  <!-- ===================================================================================== -->
  <!-- |                                  TRANSMISSIONS                                    | -->
  <!-- ===================================================================================== -->

  <!-- HEAD -->
  <transmission name="head_yaw_tran">
    <type>transmission_interface/SimpleTransmission</type>
    <joint name="head_yaw_joint">
      <hardwareInterface>hardware_interface/EffortJointInterface</hardwareInterface>
    </joint>
    <actuator name="head_yaw_motor">
      <hardwareInterface>hardware_interface/EffortJointInterface</hardwareInterface>
      <mechanicalReduction>1</mechanicalReduction>
    </actuator>
  </transmission>
  <transmission name="head_pitch_tran">
    <type>transmission_interface/SimpleTransmission</type>
    <joint name="head_pitch_joint">
      <hardwareInterface>hardware_interface/EffortJointInterface</hardwareInterface>
    </joint>
    <actuator name="head_pitch_motor">
      <hardwareInterface>hardware_interface/EffortJointInterface</hardwareInterface>
      <mechanicalReduction>1</mechanicalReduction>
    </actuator>
  </transmission>
  <transmission name="head_roll_tran">
    <type>transmission_interface/SimpleTransmission</type>
    <joint name="head_roll_joint">
      <hardwareInterface>hardware_interface/EffortJointInterface</hardwareInterface>
    </joint>
    <actuator name="head_roll_motor">
      <hardwareInterface>hardware_interface/EffortJointInterface</hardwareInterface>
      <mechanicalReduction>1</mechanicalReduction>
    </actuator>
  </transmission>

  <!-- RIGHT LEG -->
  <transmission name="r_hip_yaw_tran">
    <type>transmission_interface/SimpleTransmission</type>
    <joint name="r_hip_yaw_joint">
      <hardwareInterface>hardware_interface/EffortJointInterface</hardwareInterface>
    </joint>
    <actuator name="r_hip_yaw_motor">
      <hardwareInterface>hardware_interface/EffortJointInterface</hardwareInterface>
      <mechanicalReduction>1</mechanicalReduction>
    </actuator>
  </transmission>
  <transmission name="r_hip_roll_tran">
    <type>transmission_interface/SimpleTransmission</type>
    <joint name="r_hip_roll_joint">
      <hardwareInterface>hardware_interface/EffortJointInterface</hardwareInterface>
    </joint>
    <actuator name="r_hip_roll_motor">
      <hardwareInterface>hardware_interface/EffortJointInterface</hardwareInterface>
      <mechanicalReduction>1</mechanicalReduction>
    </actuator>
  </transmission>
  <transmission name="r_hip_pitch_tran">
    <type>transmission_interface/SimpleTransmission</type>
    <joint name="r_hip_pitch_joint">
      <hardwareInterface>hardware_interface/EffortJointInterface</hardwareInterface>
    </joint>
    <actuator name="r_hip_pitch_motor">
      <hardwareInterface>hardware_interface/EffortJointInterface</hardwareInterface>
      <mechanicalReduction>1</mechanicalReduction>
    </actuator>
  </transmission>
  <transmission name="r_knee_tran">
    <type>transmission_interface/SimpleTransmission</type>
    <joint name="r_knee_joint">
      <hardwareInterface>hardware_interface/EffortJointInterface</hardwareInterface>
    </joint>
    <actuator name="r_knee_motor">
      <hardwareInterface>hardware_interface/EffortJointInterface</hardwareInterface>
      <mechanicalReduction>1</mechanicalReduction>
    </actuator>
  </transmission>
  <transmission name="r_ankle_pitch_tran">
    <type>transmission_interface/SimpleTransmission</type>
    <joint name="r_ankle_pitch_joint">
      <hardwareInterface>hardware_interface/EffortJointInterface</hardwareInterface>
    </joint>
    <actuator name="r_ankle_pitch_motor">
      <hardwareInterface>hardware_interface/EffortJointInterface</hardwareInterface>
      <mechanicalReduction>1</mechanicalReduction>
    </actuator>
  </transmission>
  <transmission name="r_ankle_roll_tran">
    <type>transmission_interface/SimpleTransmission</type>
    <joint name="r_ankle_roll_joint">
      <hardwareInterface>hardware_interface/EffortJointInterface</hardwareInterface>
    </joint>
    <actuator name="r_ankle_roll_motor">
      <hardwareInterface>hardware_interface/EffortJointInterface</hardwareInterface>
      <mechanicalReduction>1</mechanicalReduction>
    </actuator>
  </transmission>

  <!-- LEFT LEG -->
  <transmission name="l_hip_yaw_tran">
    <type>transmission_interface/SimpleTransmission</type>
    <joint name="l_hip_yaw_joint">
      <hardwareInterface>hardware_interface/EffortJointInterface</hardwareInterface>
    </joint>
    <actuator name="l_hip_yaw_motor">
      <hardwareInterface>hardware_interface/EffortJointInterface</hardwareInterface>
      <mechanicalReduction>1</mechanicalReduction>
    </actuator>
  </transmission>
  <transmission name="l_hip_roll_tran">
    <type>transmission_interface/SimpleTransmission</type>
    <joint name="l_hip_roll_joint">
      <hardwareInterface>hardware_interface/EffortJointInterface</hardwareInterface>
    </joint>
    <actuator name="l_hip_roll_motor">
      <hardwareInterface>hardware_interface/EffortJointInterface</hardwareInterface>
      <mechanicalReduction>1</mechanicalReduction>
    </actuator>
  </transmission>
  <transmission name="l_hip_pitch_tran">
    <type>transmission_interface/SimpleTransmission</type>
    <joint name="l_hip_pitch_joint">
      <hardwareInterface>hardware_interface/EffortJointInterface</hardwareInterface>
    </joint>
    <actuator name="l_hip_pitch_motor">
      <hardwareInterface>hardware_interface/EffortJointInterface</hardwareInterface>
      <mechanicalReduction>1</mechanicalReduction>
    </actuator>
  </transmission>
  <transmission name="l_knee_tran">
    <type>transmission_interface/SimpleTransmission</type>
    <joint name="l_knee_joint">
      <hardwareInterface>hardware_interface/EffortJointInterface</hardwareInterface>
    </joint>
    <actuator name="l_knee_motor">
      <hardwareInterface>hardware_interface/EffortJointInterface</hardwareInterface>
      <mechanicalReduction>1</mechanicalReduction>
    </actuator>
  </transmission>
  <transmission name="l_ankle_pitch_tran">
    <type>transmission_interface/SimpleTransmission</type>
    <joint name="l_ankle_pitch_joint">
      <hardwareInterface>hardware_interface/EffortJointInterface</hardwareInterface>
    </joint>
    <actuator name="l_ankle_pitch_motor">
      <hardwareInterface>hardware_interface/EffortJointInterface</hardwareInterface>
      <mechanicalReduction>1</mechanicalReduction>
    </actuator>
  </transmission>
  <transmission name="l_ankle_roll_tran">
    <type>transmission_interface/SimpleTransmission</type>
    <joint name="l_ankle_roll_joint">
      <hardwareInterface>hardware_interface/EffortJointInterface</hardwareInterface>
    </joint>
    <actuator name="l_ankle_roll_motor">
      <hardwareInterface>hardware_interface/EffortJointInterface</hardwareInterface>
      <mechanicalReduction>1</mechanicalReduction>
    </actuator>
  </transmission>

  <!-- RIGHT ARM -->
  <transmission name="r_arm_pitch_tran">
    <type>transmission_interface/SimpleTransmission</type>
    <joint name="r_arm_pitch_joint">
      <hardwareInterface>hardware_interface/EffortJointInterface</hardwareInterface>
    </joint>
    <actuator name="r_arm_pitch_motor">
      <hardwareInterface>hardware_interface/EffortJointInterface</hardwareInterface>
      <mechanicalReduction>1</mechanicalReduction>
    </actuator>
  </transmission>
  <transmission name="r_arm_roll_tran">
    <type>transmission_interface/SimpleTransmission</type>
    <joint name="r_arm_roll_joint">
      <hardwareInterface>hardware_interface/EffortJointInterface</hardwareInterface>
    </joint>
    <actuator name="r_arm_roll_motor">
      <hardwareInterface>hardware_interface/EffortJointInterface</hardwareInterface>
      <mechanicalReduction>1</mechanicalReduction>
    </actuator>
  </transmission>
  <transmission name="r_elbow_pitch_tran">
    <type>transmission_interface/SimpleTransmission</type>
    <joint name="r_elbow_pitch_joint">
      <hardwareInterface>hardware_interface/EffortJointInterface</hardwareInterface>
    </joint>
    <actuator name="r_elbow_pitch_motor">
      <hardwareInterface>hardware_interface/EffortJointInterface</hardwareInterface>
      <mechanicalReduction>1</mechanicalReduction>
    </actuator>
  </transmission>
  <transmission name="r_forearm_roll_tran">
    <type>transmission_interface/SimpleTransmission</type>
    <joint name="r_forearm_roll_joint">
      <hardwareInterface>hardware_interface/EffortJointInterface</hardwareInterface>
    </joint>
    <actuator name="r_forearm_roll_motor">
      <hardwareInterface>hardware_interface/EffortJointInterface</hardwareInterface>
      <mechanicalReduction>1</mechanicalReduction>
    </actuator>
  </transmission>
  <transmission name="r_forearm_link_tran">
    <type>transmission_interface/SimpleTransmission</type>
    <joint name="r_forearm_link_joint">
      <hardwareInterface>hardware_interface/EffortJointInterface</hardwareInterface>
    </joint>
    <actuator name="r_forearm_link_motor">
      <hardwareInterface>hardware_interface/EffortJointInterface</hardwareInterface>
      <mechanicalReduction>1</mechanicalReduction>
    </actuator>
  </transmission>
  <transmission name="r_hand_pitch_tran">
    <type>transmission_interface/SimpleTransmission</type>
    <joint name="r_hand_pitch_joint">
      <hardwareInterface>hardware_interface/EffortJointInterface</hardwareInterface>
    </joint>
    <actuator name="r_hand_pitch_motor">
      <hardwareInterface>hardware_interface/EffortJointInterface</hardwareInterface>
      <mechanicalReduction>1</mechanicalReduction>
    </actuator>
  </transmission>
  <transmission name="r_hand_roll_tran">
    <type>transmission_interface/SimpleTransmission</type>
    <joint name="r_hand_roll_joint">
      <hardwareInterface>hardware_interface/EffortJointInterface</hardwareInterface>
    </joint>
    <actuator name="r_hand_roll_motor">
      <hardwareInterface>hardware_interface/EffortJointInterface</hardwareInterface>
      <mechanicalReduction>1</mechanicalReduction>
    </actuator>
  </transmission>

  <!-- LEFT ARM -->
  <transmission name="l_arm_pitch_tran">
    <type>transmission_interface/SimpleTransmission</type>
    <joint name="l_arm_pitch_joint">
      <hardwareInterface>hardware_interface/EffortJointInterface</hardwareInterface>
    </joint>
    <actuator name="l_arm_pitch_motor">
      <hardwareInterface>hardware_interface/EffortJointInterface</hardwareInterface>
      <mechanicalReduction>1</mechanicalReduction>
    </actuator>
  </transmission>
  <transmission name="l_arm_roll_tran">
    <type>transmission_interface/SimpleTransmission</type>
    <joint name="l_arm_roll_joint">
      <hardwareInterface>hardware_interface/EffortJointInterface</hardwareInterface>
    </joint>
    <actuator name="l_arm_roll_motor">
      <hardwareInterface>hardware_interface/EffortJointInterface</hardwareInterface>
      <mechanicalReduction>1</mechanicalReduction>
    </actuator>
  </transmission>
  <transmission name="l_elbow_pitch_tran">
    <type>transmission_interface/SimpleTransmission</type>
    <joint name="l_elbow_pitch_joint">
      <hardwareInterface>hardware_interface/EffortJointInterface</hardwareInterface>
    </joint>
    <actuator name="l_elbow_pitch_motor">
      <hardwareInterface>hardware_interface/EffortJointInterface</hardwareInterface>
      <mechanicalReduction>1</mechanicalReduction>
    </actuator>
  </transmission>
  <transmission name="l_forearm_roll_tran">
    <type>transmission_interface/SimpleTransmission</type>
    <joint name="l_forearm_roll_joint">
      <hardwareInterface>hardware_interface/EffortJointInterface</hardwareInterface>
    </joint>
    <actuator name="l_forearm_roll_motor">
      <hardwareInterface>hardware_interface/EffortJointInterface</hardwareInterface>
      <mechanicalReduction>1</mechanicalReduction>
    </actuator>
  </transmission>
  <transmission name="l_forearm_link_tran">
    <type>transmission_interface/SimpleTransmission</type>
    <joint name="l_forearm_link_joint">
      <hardwareInterface>hardware_interface/EffortJointInterface</hardwareInterface>
    </joint>
    <actuator name="l_forearm_link_motor">
      <hardwareInterface>hardware_interface/EffortJointInterface</hardwareInterface>
      <mechanicalReduction>1</mechanicalReduction>
    </actuator>
  </transmission>
  <transmission name="l_hand_pitch_tran">
    <type>transmission_interface/SimpleTransmission</type>
    <joint name="l_hand_pitch_joint">
      <hardwareInterface>hardware_interface/EffortJointInterface</hardwareInterface>
    </joint>
    <actuator name="l_hand_pitch_motor">
      <hardwareInterface>hardware_interface/EffortJointInterface</hardwareInterface>
      <mechanicalReduction>1</mechanicalReduction>
    </actuator>
  </transmission>
  <transmission name="l_hand_roll_tran">
    <type>transmission_interface/SimpleTransmission</type>
    <joint name="l_hand_roll_joint">
      <hardwareInterface>hardware_interface/EffortJointInterface</hardwareInterface>
    </joint>
    <actuator name="l_hand_roll_motor">
      <hardwareInterface>hardware_interface/EffortJointInterface</hardwareInterface>
      <mechanicalReduction>1</mechanicalReduction>
    </actuator>
  </transmission>
</robot>
